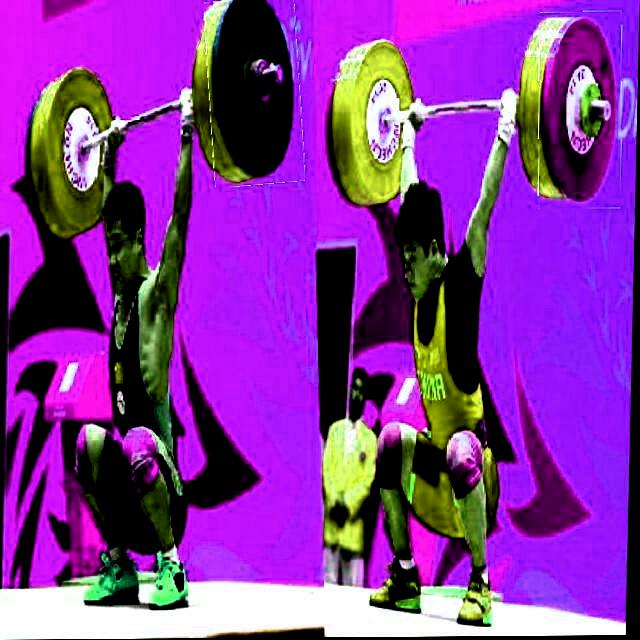barbell: (206, 1, 306, 187), (539, 12, 625, 211)
